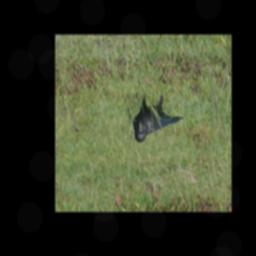Crow: (133, 92, 185, 142)
